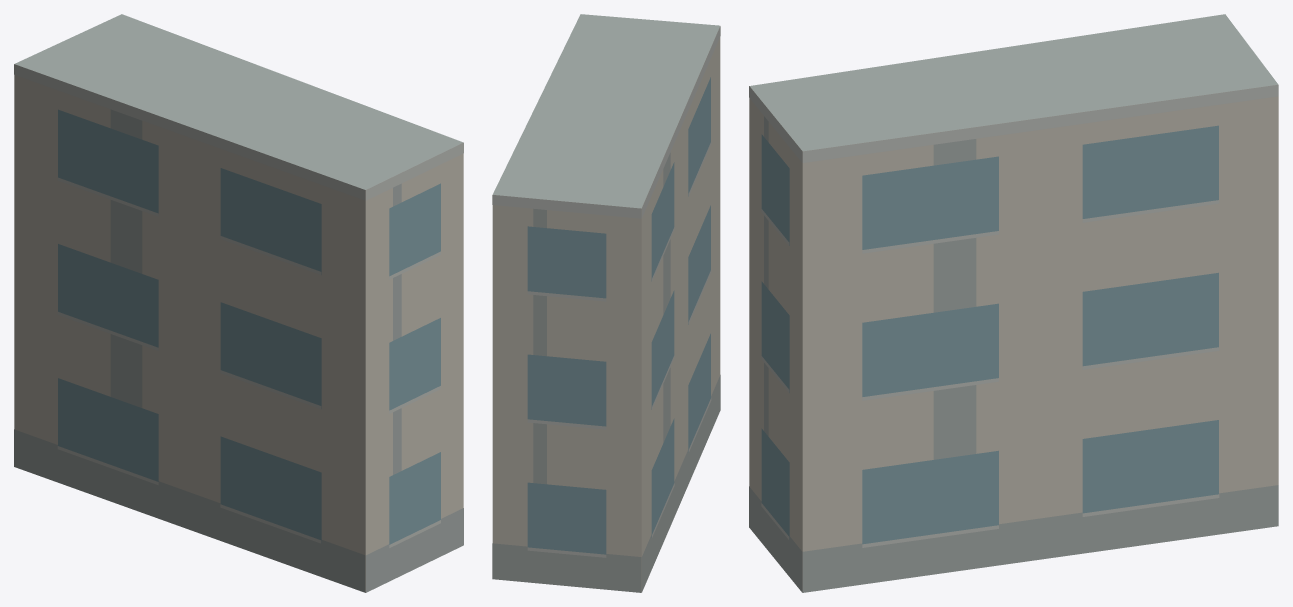
Rendered from survey-upis-32537992.glb.
3 renders of one model, left to right at view 1: azimuth 30°, elevation 25°; view 2: azimuth 150°, elevation 25°; view 3: azimuth 270°, elevation 25°, orthographic. The views are drawn at different scales.
Visible parts, largest first — view 1: survey-upis-32537992.tmp; view 2: survey-upis-32537992.tmp; view 3: survey-upis-32537992.tmp.
Boxes of the visible parts, <box> form: survey-upis-32537992.tmp: <box>14,14,463,592</box>; survey-upis-32537992.tmp: <box>492,14,720,592</box>; survey-upis-32537992.tmp: <box>749,14,1278,592</box>.
Size of the model in its own units: 6.12 by 9.15 by 9.95.
